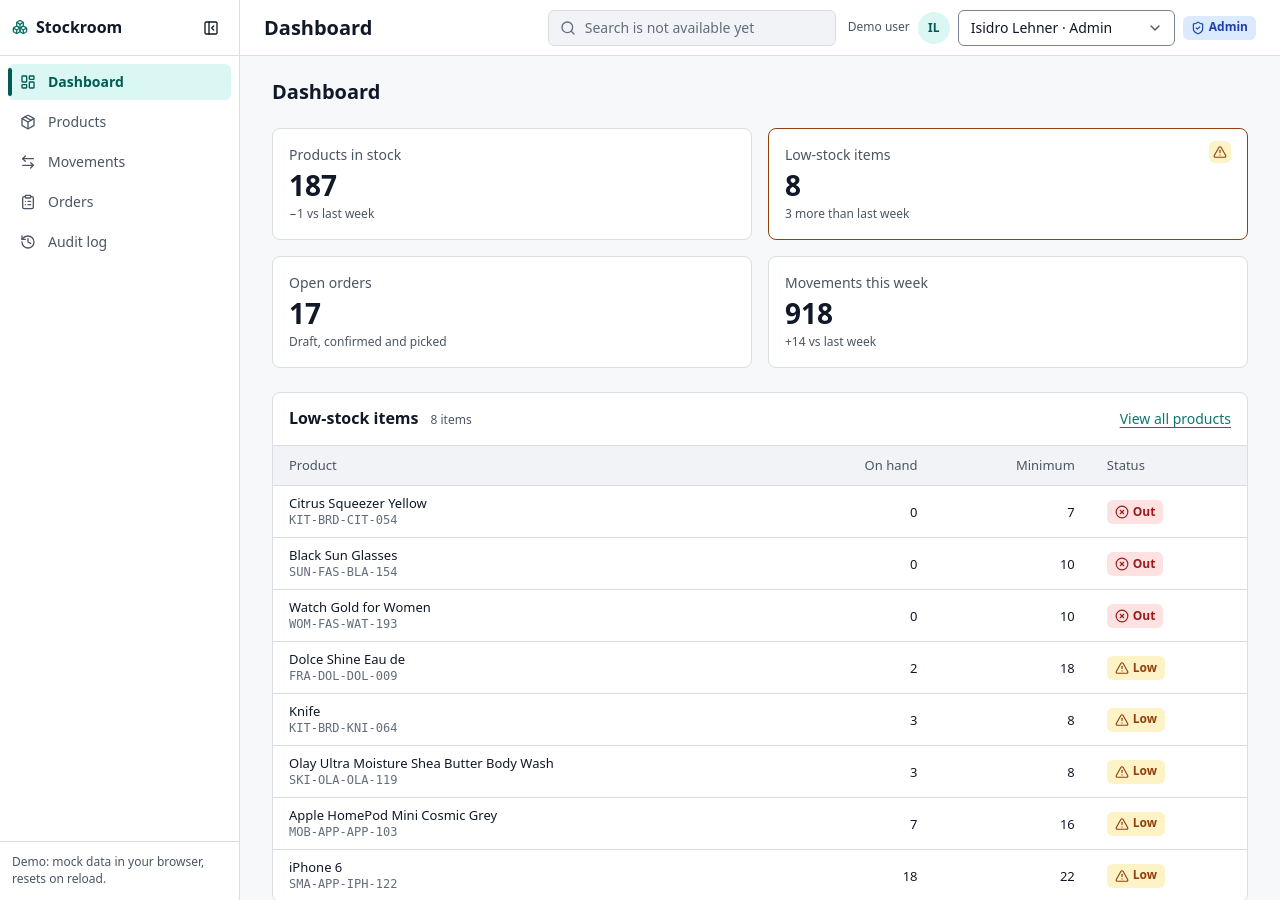
Test: Sidebar › says the data is mock data, except in the collapsed rail
Expected: the text "Demo: mock data in your browser, resets on reload." is shown, x1=0 y1=841 x2=239 y2=899
What coordinates should you click on to do the following:
click the button named "Sidebar"
I would click on:
 (211, 28)
Its box is x1=195 y1=12 x2=227 y2=44.
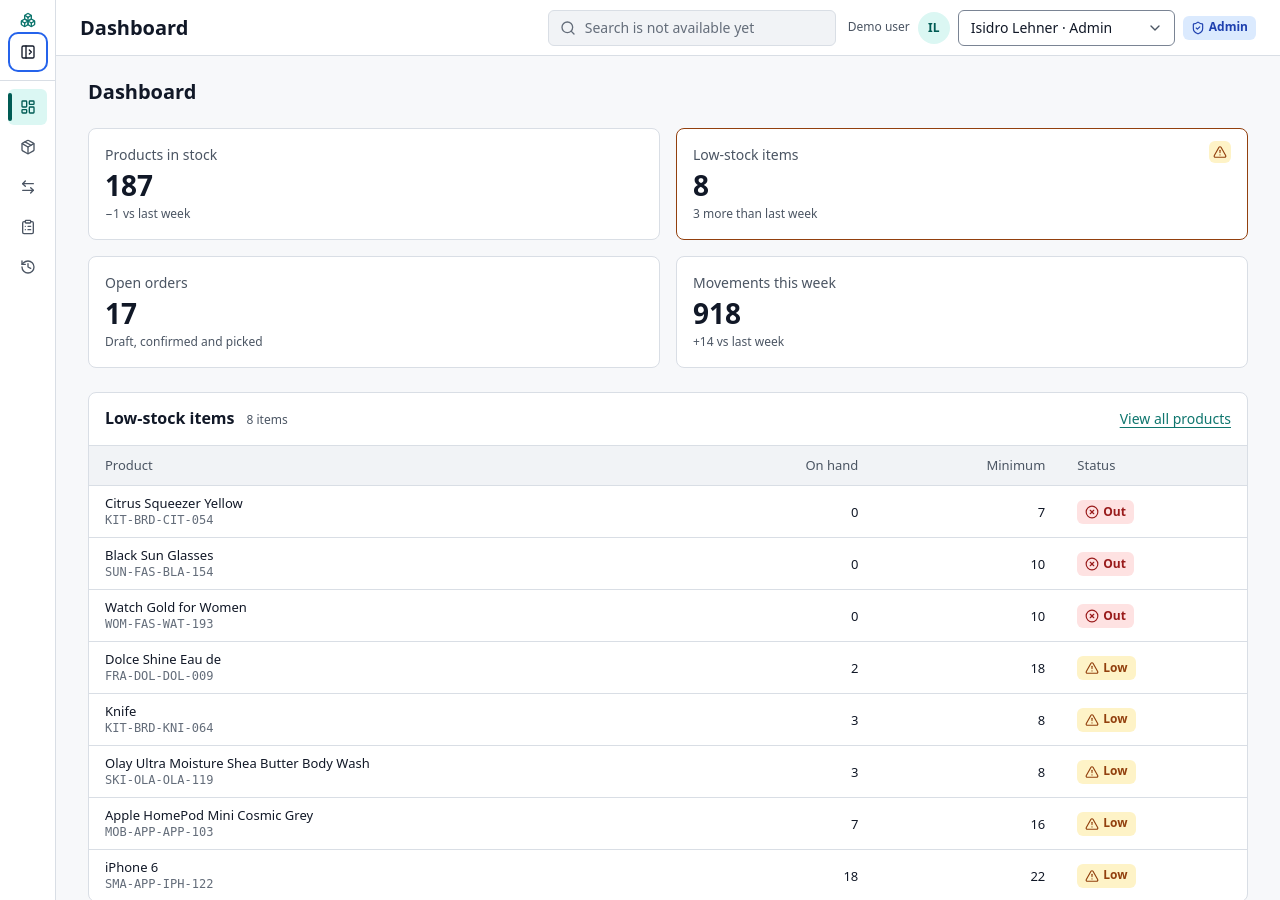
Expected: the text "Demo: mock data in your browser, resets on reload." is gone
